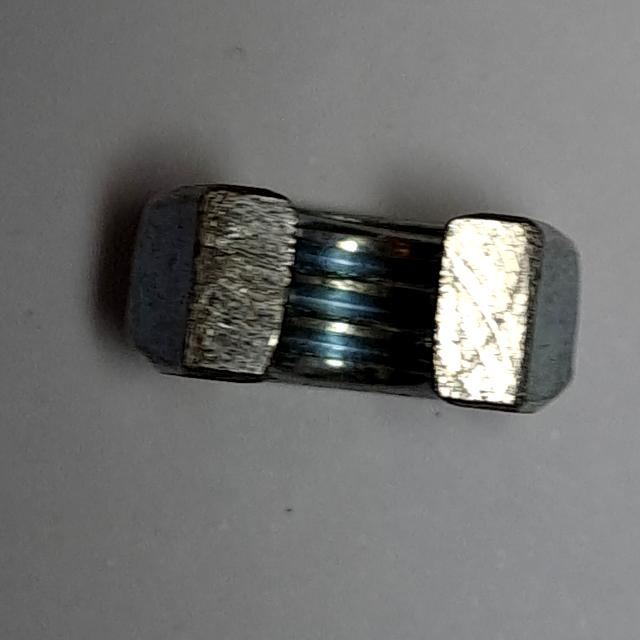Side-Fracture: (107, 164, 594, 443)
